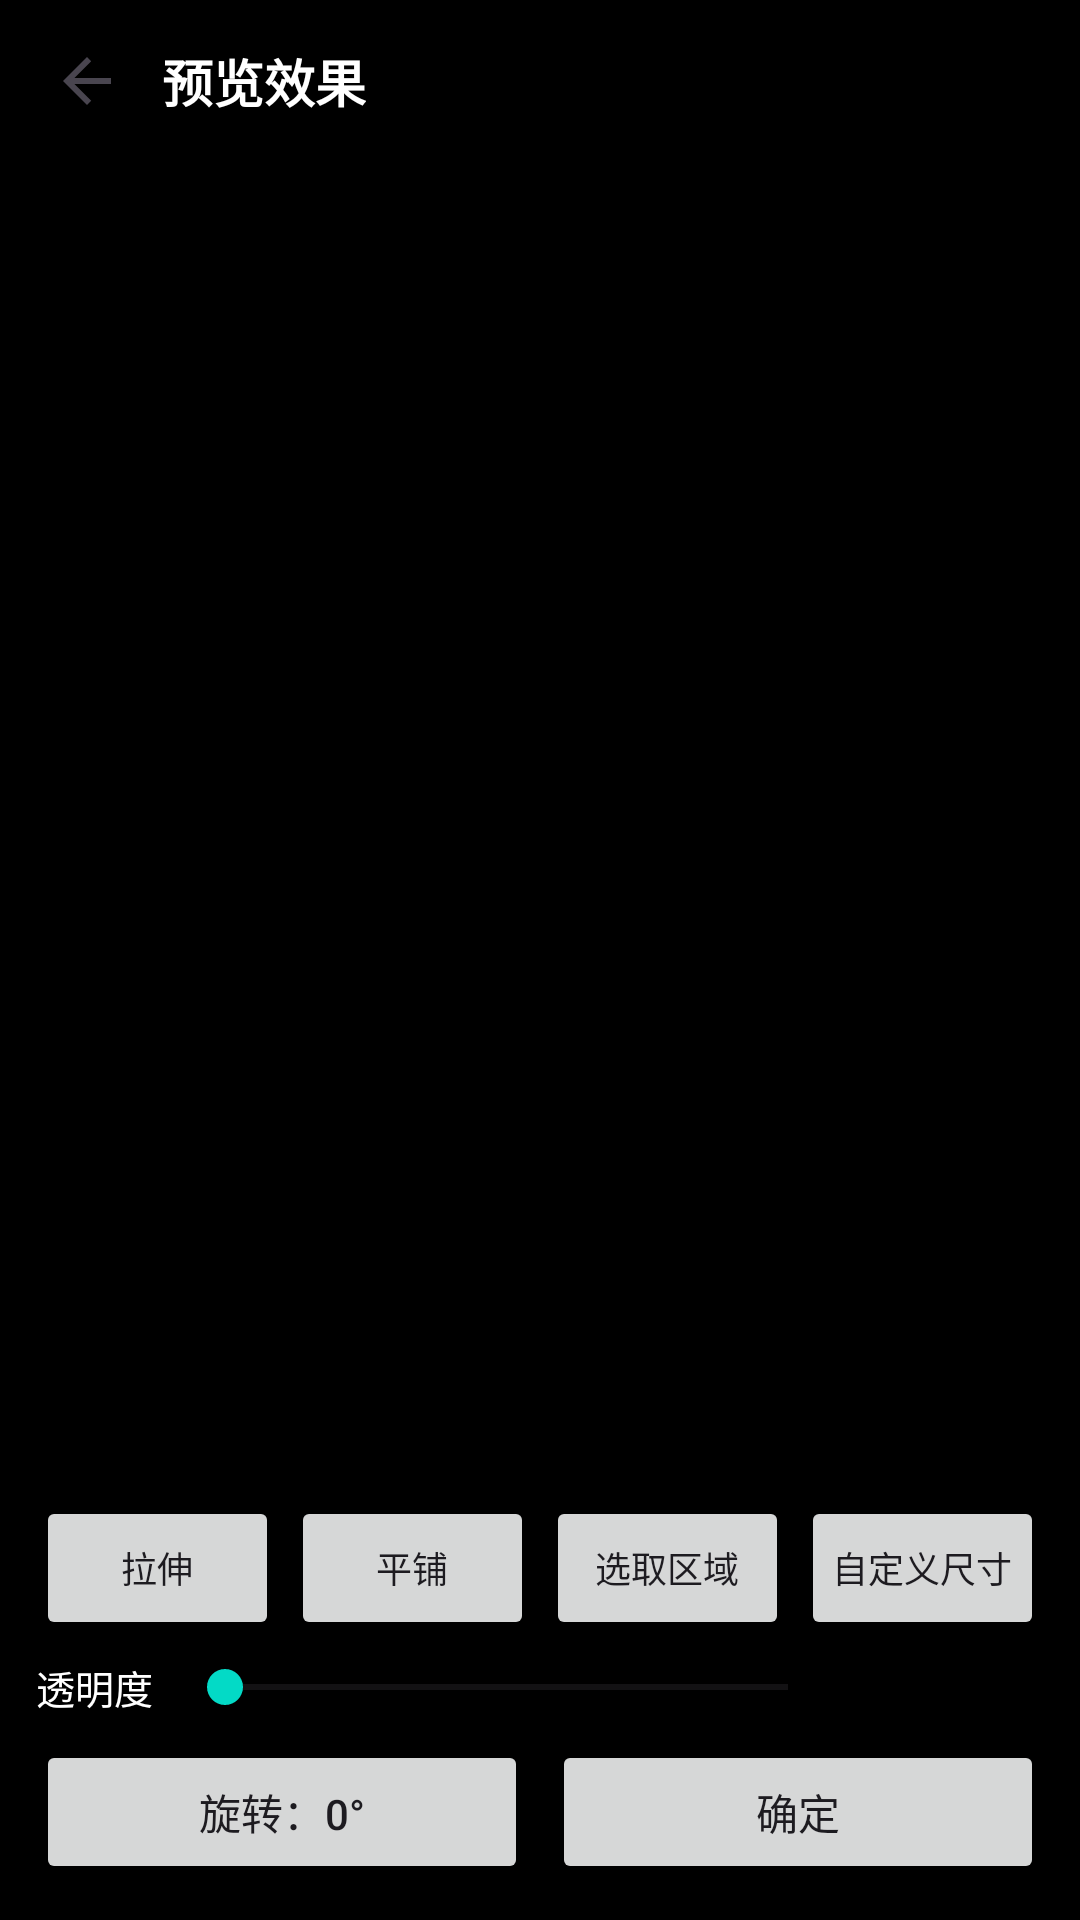

Point at icon controls on the screen. Image size 1080 × 1920, points as [x,y].
返回: [87,81]
